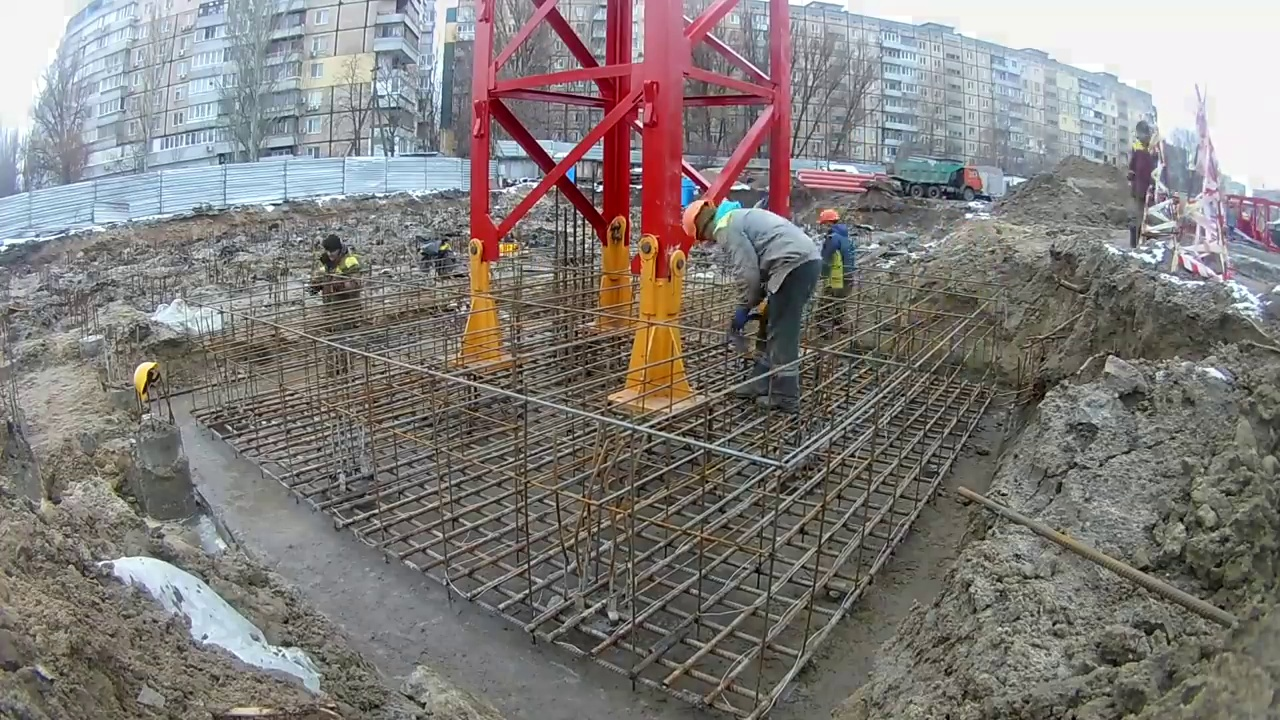helmet: (130, 359, 159, 403), (682, 196, 709, 241), (818, 209, 840, 223)
helmet-off: (319, 233, 347, 268)
helmet-on: (681, 196, 738, 248), (817, 209, 844, 239)
person: (680, 196, 819, 415), (816, 207, 857, 316), (307, 233, 362, 314), (1128, 120, 1163, 246)
